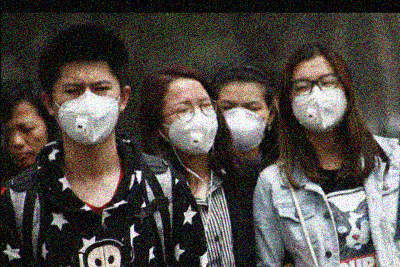with_mask: (52, 73, 122, 145), (289, 70, 350, 131), (160, 91, 219, 152), (216, 93, 271, 151)
without_mask: (3, 116, 48, 168)
